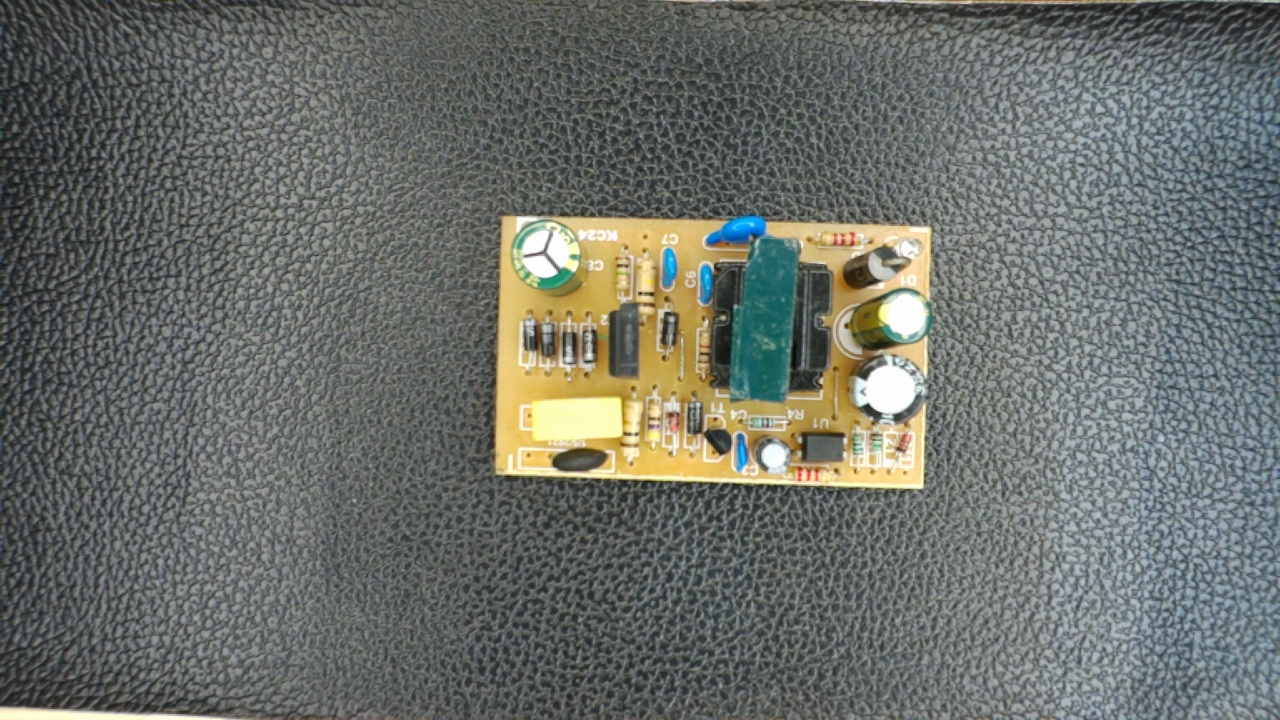fuse: (519, 447, 617, 476)
hv_capacitor: (504, 218, 594, 300)
mov: (699, 216, 771, 252)
optocoupler: (794, 429, 852, 465)
